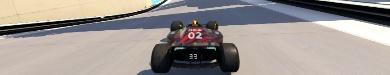Car: (149, 20, 240, 72)
obstacles-Borders: (0, 0, 171, 36)
